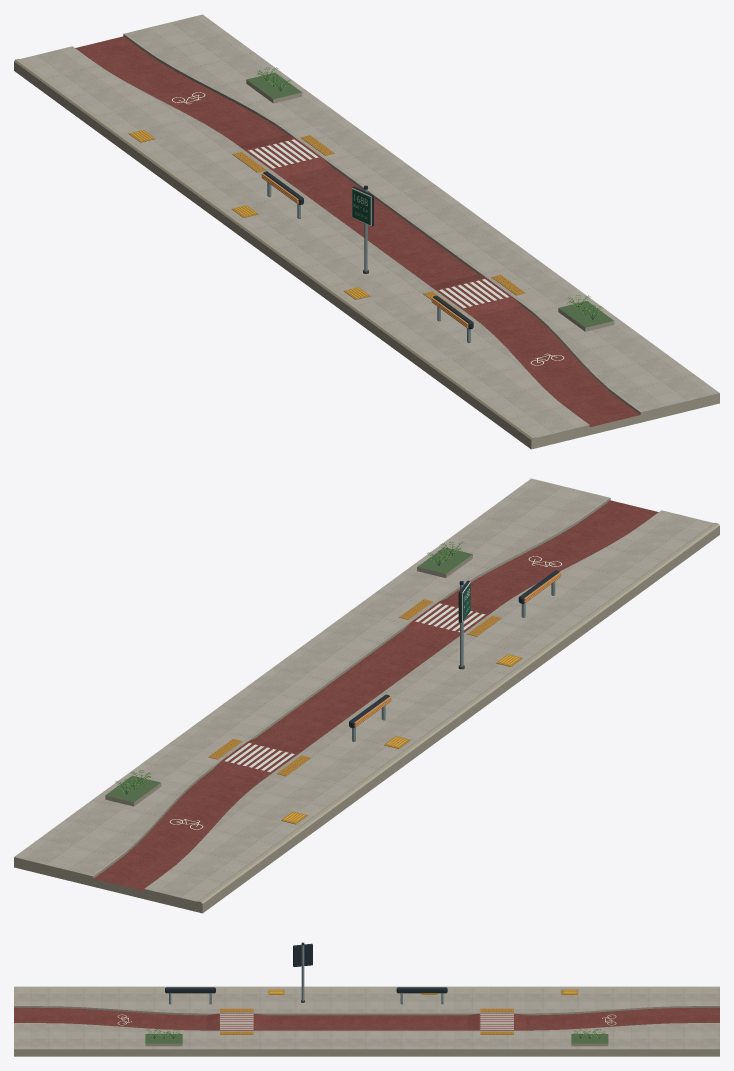
3 views of the same model, one above another, from view 1: azimuth 30°, elevation 25°; view 2: azimuth 150°, elevation 25°; view 3: azimuth 270°, elevation 25° (orthographic). The views are drawn at different scales.
Parts seen in each view (by area): view 1: Boarding Island, Rear Footway, Cycleway Bypass, Bus Kerb, Sedge Beds, Boarding Crossing Markings, Verges and Subgrade, Boarding Marker, Tactile Crossing Warnings; view 2: Boarding Island, Rear Footway, Cycleway Bypass, Bus Kerb, Sedge Beds, Verges and Subgrade, Boarding Crossing Markings, Tactile Crossing Warnings; view 3: Boarding Island, Rear Footway, Cycleway Bypass, Verges and Subgrade, Bus Kerb, Boarding Crossing Markings, Sedge Beds, Perch Backing, Tactile Crossing Warnings, Boarding Marker, Verge Sedge, Bus Door Position Inlays.
Boxes of the visible parts, box(x1,y1,x2,y2) form: Boarding Island: box(20, 46, 589, 440); Rear Footway: box(123, 14, 719, 415); Cycleway Bypass: box(75, 36, 640, 427); Bus Kerb: box(14, 58, 536, 449); Sedge Beds: box(246, 72, 614, 331); Boarding Crossing Markings: box(248, 139, 508, 307); Verges and Subgrade: box(537, 396, 719, 447); Boarding Marker: box(352, 185, 373, 273); Tactile Crossing Warnings: box(232, 135, 525, 309); Boarding Island: box(144, 510, 713, 904); Rear Footway: box(14, 478, 610, 879); Cycleway Bypass: box(93, 500, 658, 891); Bus Kerb: box(197, 522, 719, 913); Sedge Beds: box(105, 547, 472, 806); Verges and Subgrade: box(14, 860, 196, 911); Boarding Crossing Markings: box(225, 603, 485, 771); Tactile Crossing Warnings: box(208, 599, 501, 776); Boarding Island: box(14, 988, 719, 1015); Rear Footway: box(14, 1023, 719, 1051); Cycleway Bypass: box(14, 1007, 719, 1030); Verges and Subgrade: box(14, 1051, 719, 1056); Bus Kerb: box(14, 986, 719, 988); Boarding Crossing Markings: box(220, 1014, 513, 1029); Sedge Beds: box(145, 1034, 608, 1046); Perch Backing: box(165, 987, 447, 993); Tactile Crossing Warnings: box(220, 1008, 513, 1034); Boarding Marker: box(293, 942, 312, 1002); Verge Sedge: box(146, 1028, 605, 1038); Bus Door Position Inlays: box(268, 989, 577, 994).
Size of the model in its own units: 6.74 by 3.3 by 32.
Materials: 16 (2 with a texture image).
